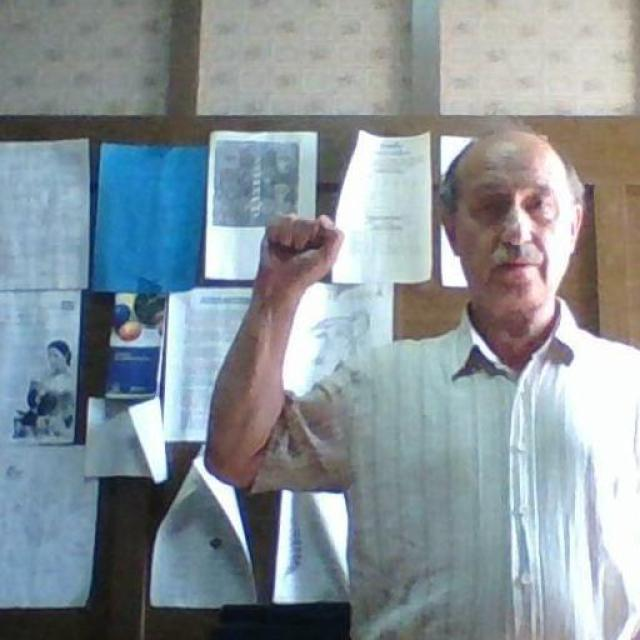hand: (252, 211, 344, 301)
